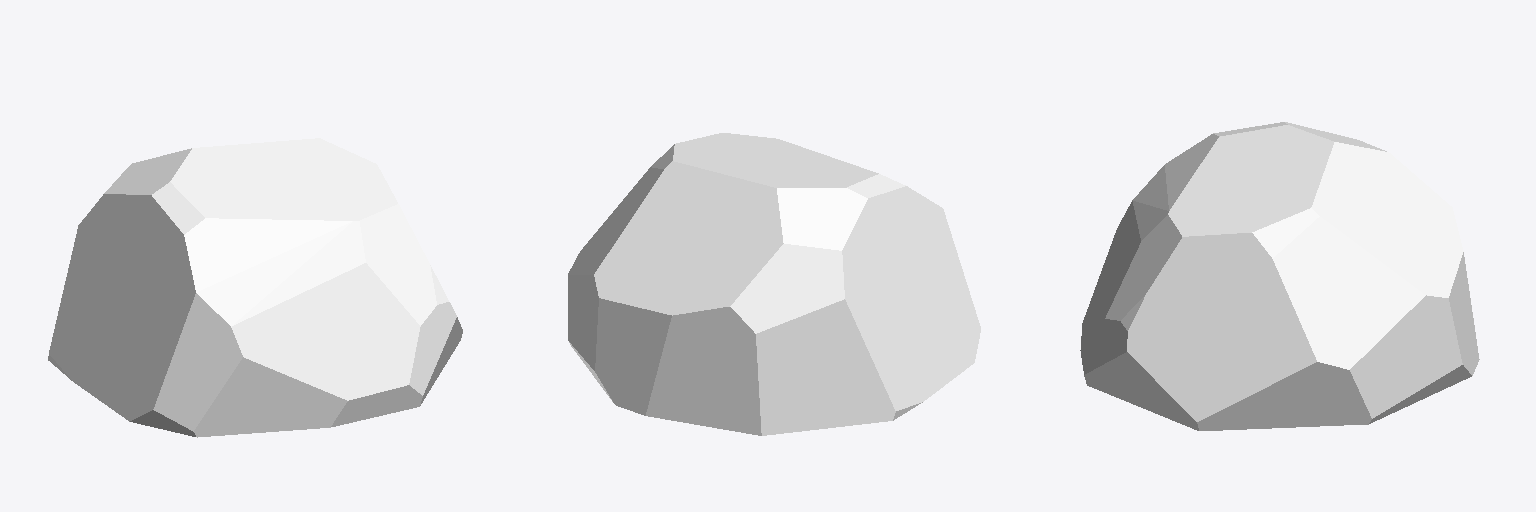
Rendered from Rock.obj.
3 renders of one model, left to right at view 1: azimuth 30°, elevation 25°; view 2: azimuth 150°, elevation 25°; view 3: azimuth 270°, elevation 25°, orthographic.
Parts seen in each view (by area): view 1: defaultMaterial; view 2: defaultMaterial; view 3: defaultMaterial.
Boxes of the visible parts, x1=… form: defaultMaterial: x1=48, y1=138, x2=462, y2=437; defaultMaterial: x1=568, y1=133, x2=980, y2=435; defaultMaterial: x1=1080, y1=122, x2=1479, y2=430.
Size of the model in its own units: 0.5228 by 0.2854 by 0.5337.